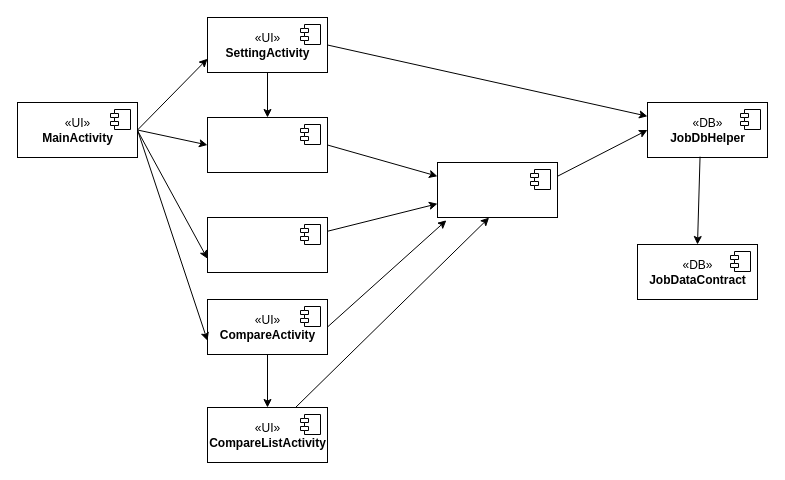
Some shapes in this 785 by 480 pixel diagram are drawn without their labels. The shapes that lost their labels are listed below. From the top down, each one's centre as x and y in pixels, then its label:
At (267,144): "«UI» JobActivity".
At (497,190): "«Model» Job".
At (267,244): "«UI» OfferActivity".
